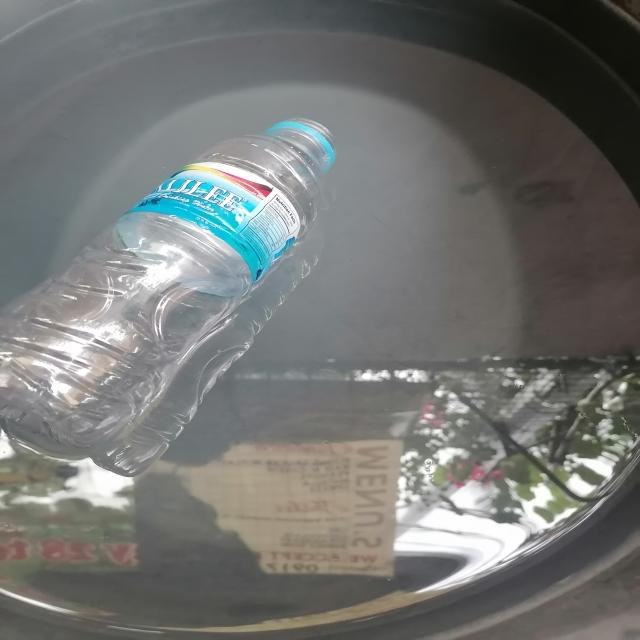Plastic Bottle: (0, 101, 378, 480)
